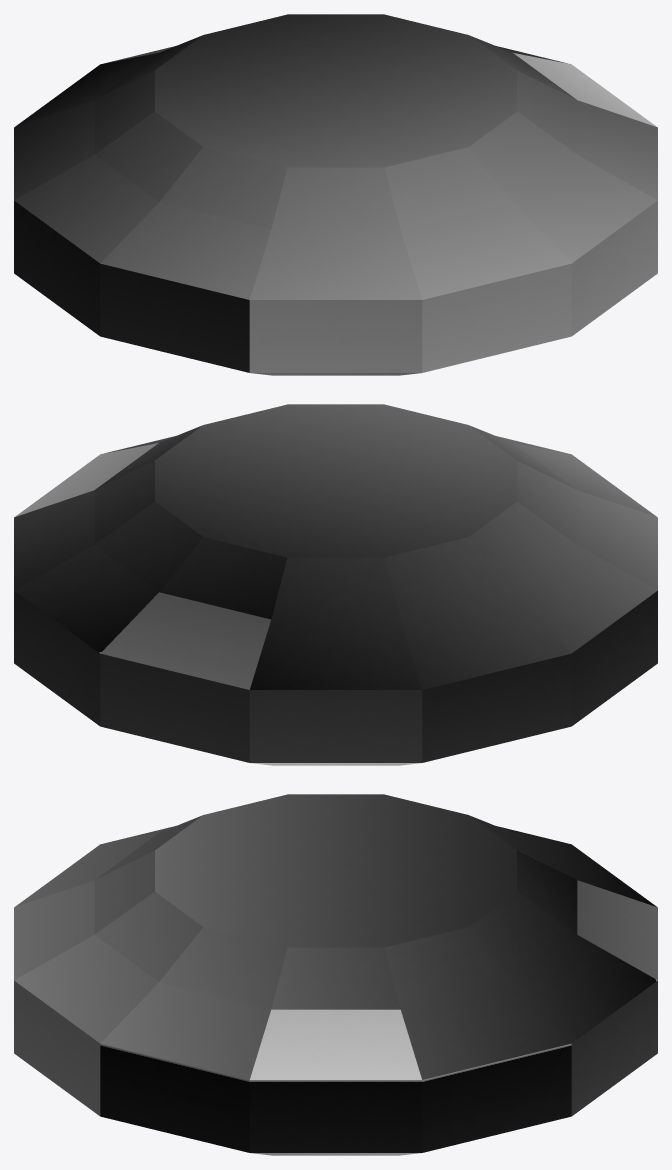
File: UFO.obj
3 views of the same model, one above another, from view 1: azimuth 30°, elevation 25°; view 2: azimuth 150°, elevation 25°; view 3: azimuth 270°, elevation 25° (orthographic).
Visible parts, largest first — view 1: cylinder; view 2: cylinder; view 3: cylinder.
Part boxes in pixels (left/top/right/bottom): cylinder: left=14, top=14, right=657, bottom=375; cylinder: left=14, top=404, right=657, bottom=765; cylinder: left=14, top=794, right=657, bottom=1155.
Size of the model in its own units: 1 by 0.3125 by 1.
